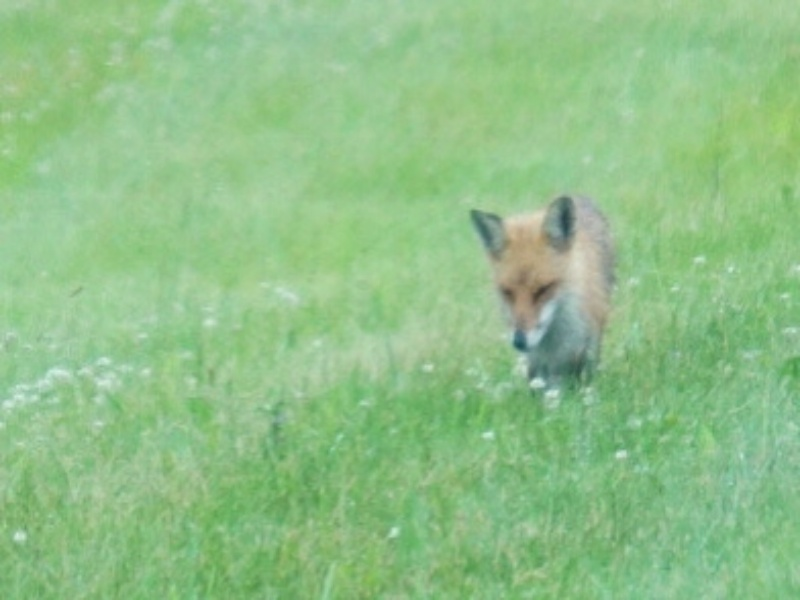fox: (467, 197, 629, 416)
